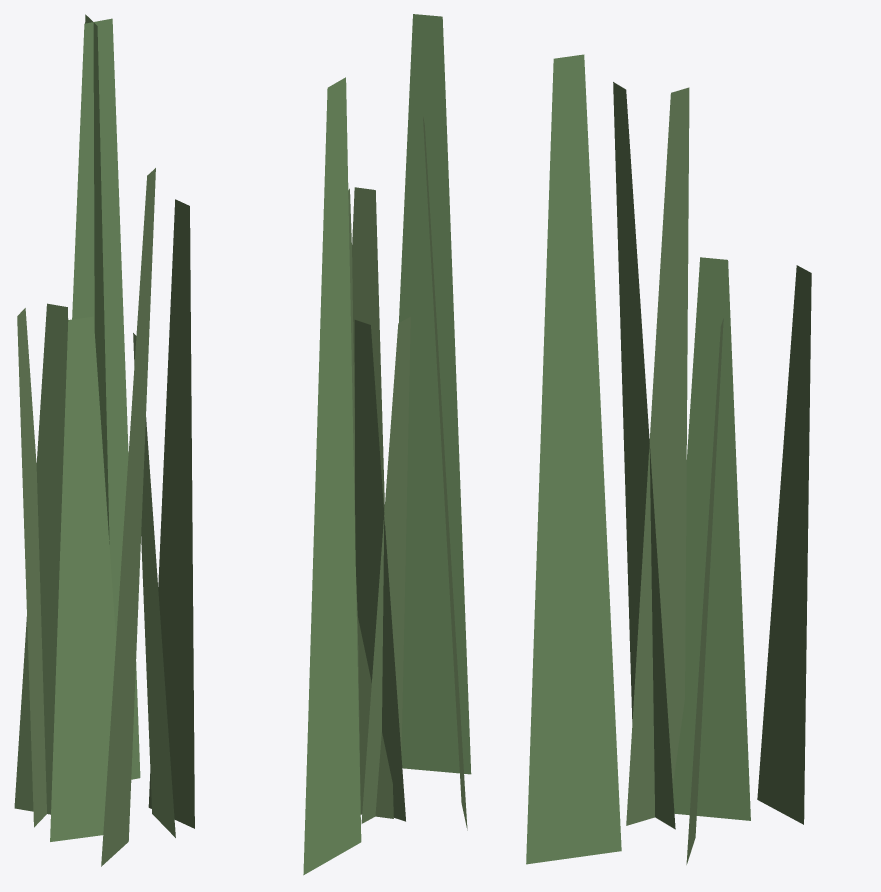
File: shui.pucao@subadult__summer.glb
3 views of the same model, side by side, from view 1: azimuth 30°, elevation 25°; view 2: azimuth 150°, elevation 25°; view 3: azimuth 270°, elevation 25° (orthographic). The views are drawn at different scales.
Parts seen in each view (by area): view 1: shui.pucao@subadult__summer; view 2: shui.pucao@subadult__summer; view 3: shui.pucao@subadult__summer.
Boxes of the visible parts, x1=… form: shui.pucao@subadult__summer: x1=14, y1=14, x2=194, y2=866; shui.pucao@subadult__summer: x1=303, y1=14, x2=471, y2=875; shui.pucao@subadult__summer: x1=526, y1=54, x2=811, y2=864.
Bounding box in the file's own units: 0.2395 × 1.16 × 0.4332.
